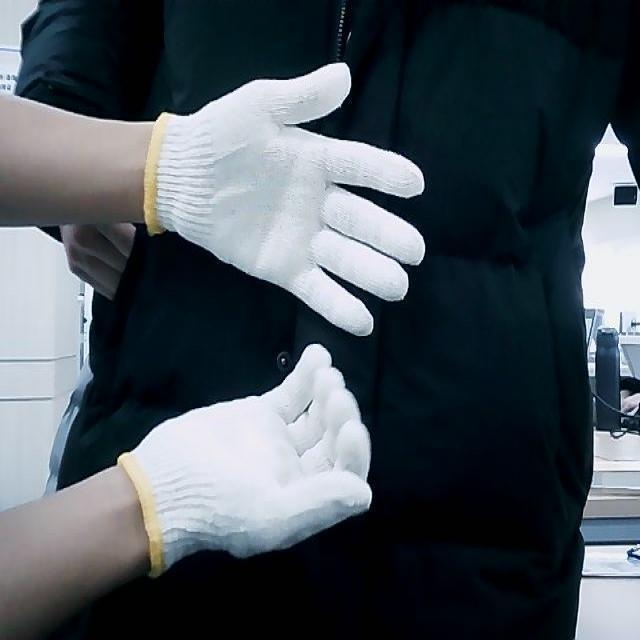Guantes: (143, 62, 428, 337), (118, 344, 375, 574)
